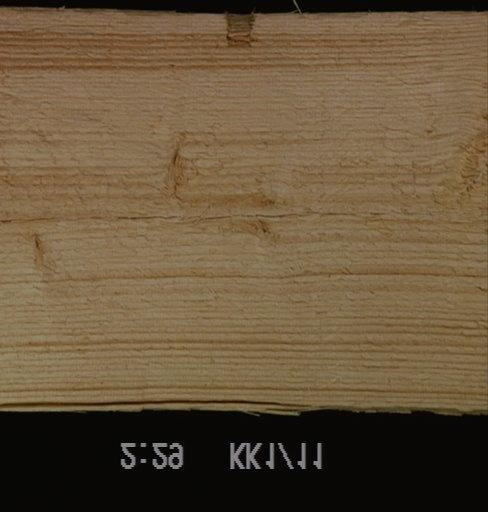split: (0, 206, 479, 234), (0, 396, 319, 411)
